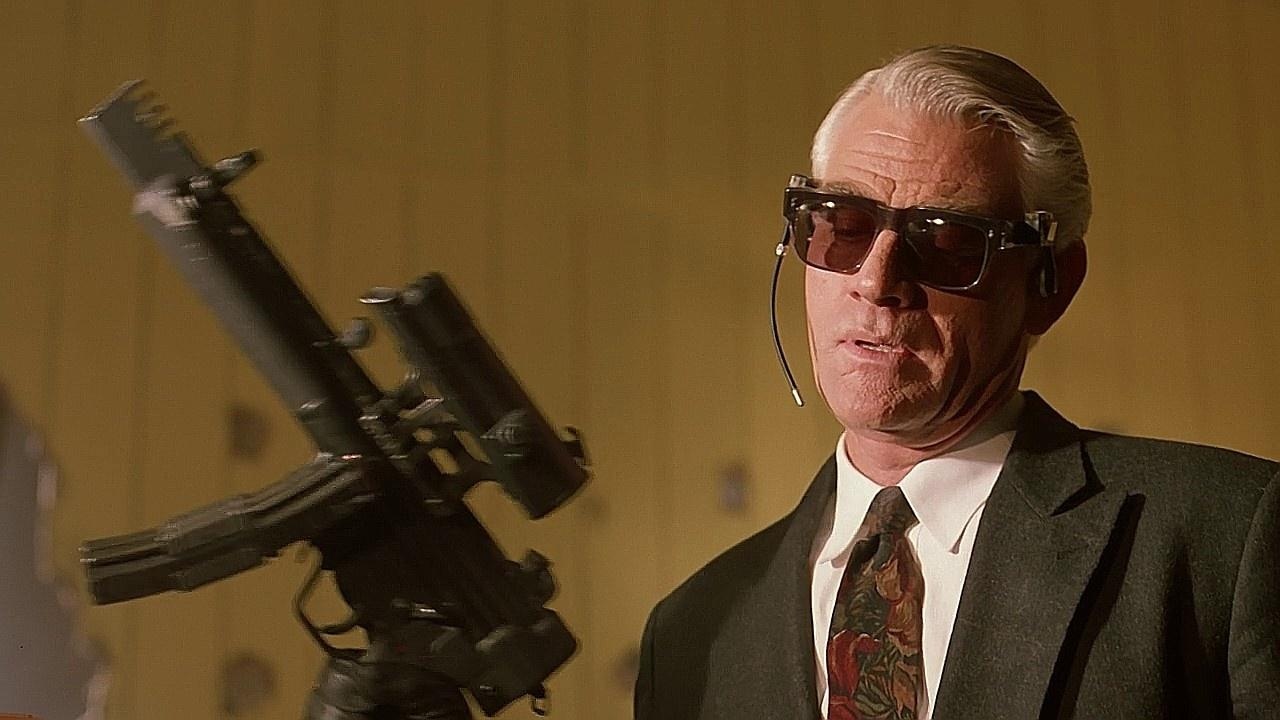gun: (66, 59, 564, 719)
